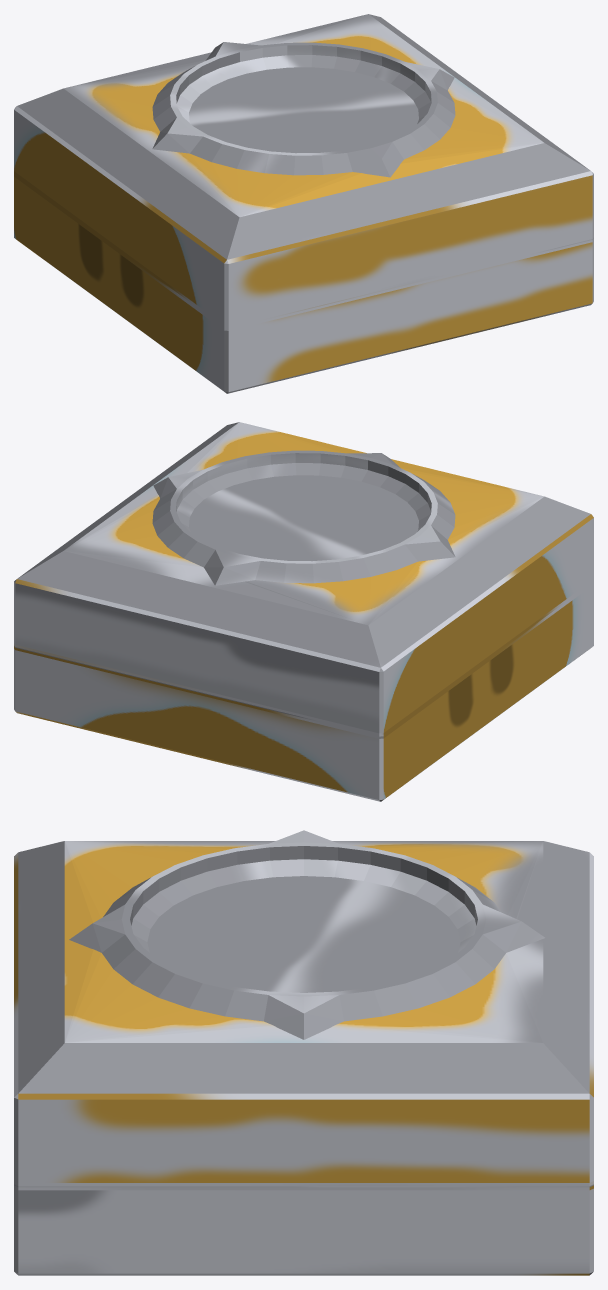
File: Mesh_SocketTile_01.obj
The picture shows the model from 3 angles, top to bottom: view 1: azimuth 30°, elevation 25°; view 2: azimuth 150°, elevation 25°; view 3: azimuth 270°, elevation 25°; orthographic projection. The views are drawn at different scales.
Visible parts, largest first — view 1: Cube.001; view 2: Cube.001; view 3: Cube.001.
Boxes of the visible parts, box(x1,y1,x2,y2) form: Cube.001: box(14, 14, 593, 393); Cube.001: box(14, 422, 593, 801); Cube.001: box(14, 830, 593, 1275).
Bounding box in the file's own units: 2 × 0.8964 × 2.
1 material, 1 textured.
